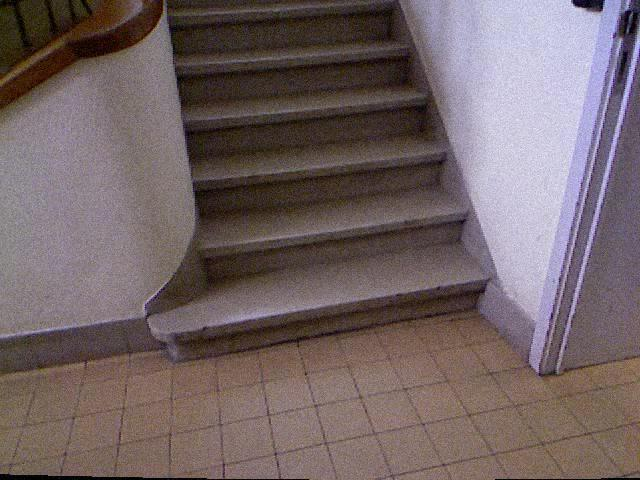Escaleras: (150, 21, 492, 331)
